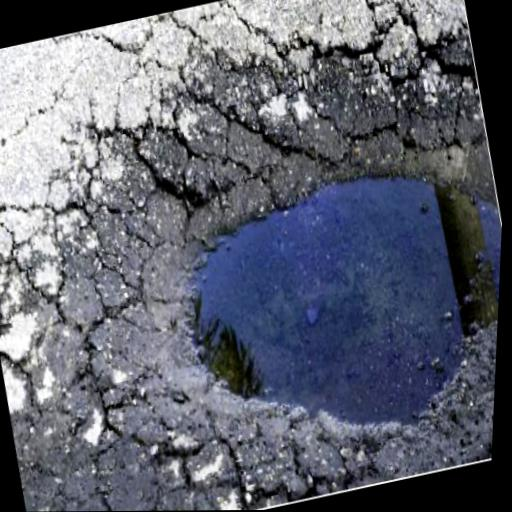pothole: (85, 33, 510, 481)
